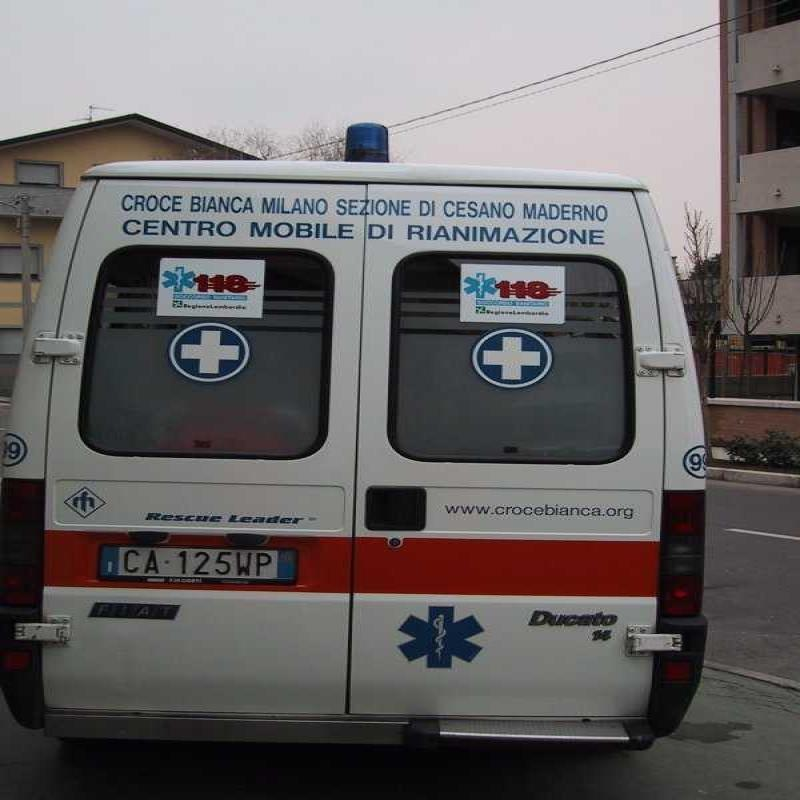AmbulanceSiren: (325, 104, 401, 186)
